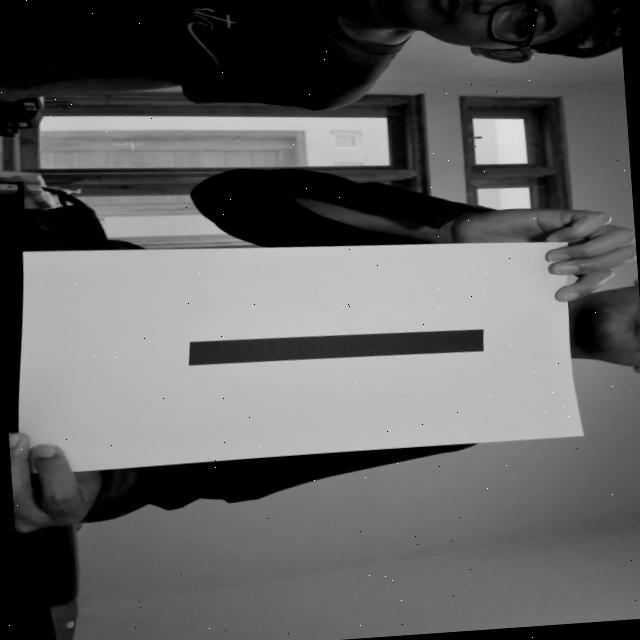i: (114, 296, 516, 404)
